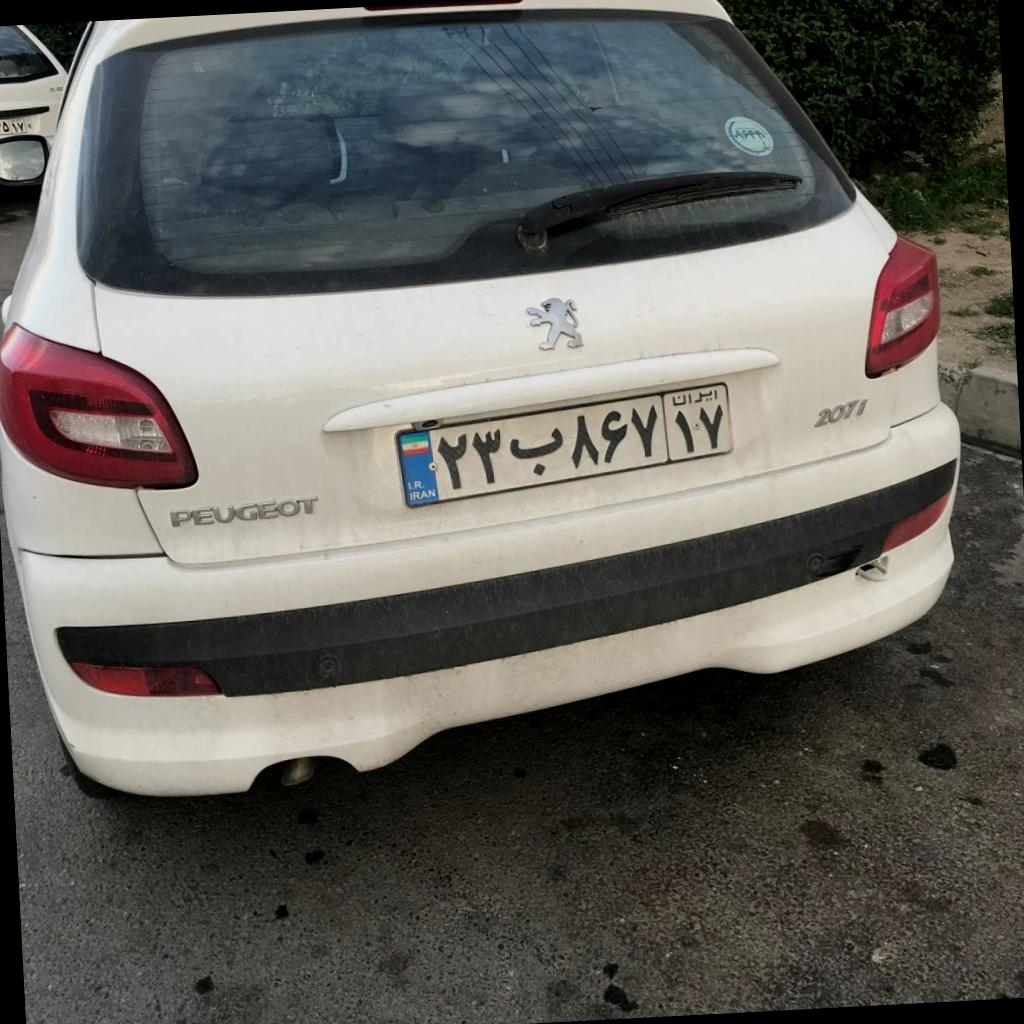Plates: (394, 383, 733, 508)
